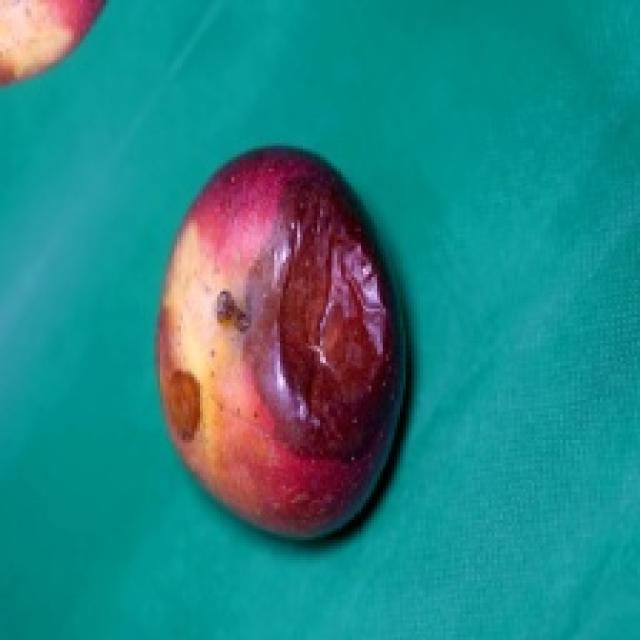rotten_apple: (160, 152, 400, 536)
